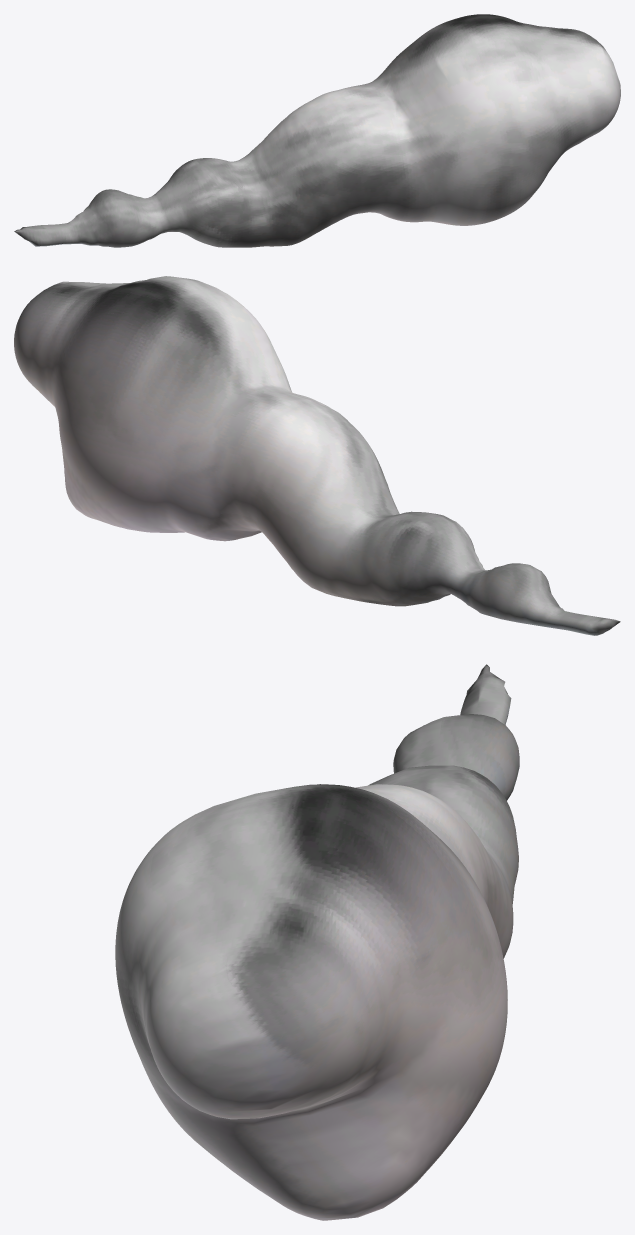
The model's file is smoke.fbx.
3 views of the same model, one above another, from view 1: azimuth 30°, elevation 25°; view 2: azimuth 150°, elevation 25°; view 3: azimuth 270°, elevation 25° (orthographic). The views are drawn at different scales.
Parts seen in each view (by area): view 1: root; view 2: root; view 3: root.
Part boxes in pixels (x1,y1,x2,y2): root: (14, 14, 620, 247); root: (14, 276, 620, 635); root: (115, 664, 519, 1220).
Size of the model in its own units: 0.4877 by 0.166 by 0.1575.
Materials: 1 (1 with a texture image).
